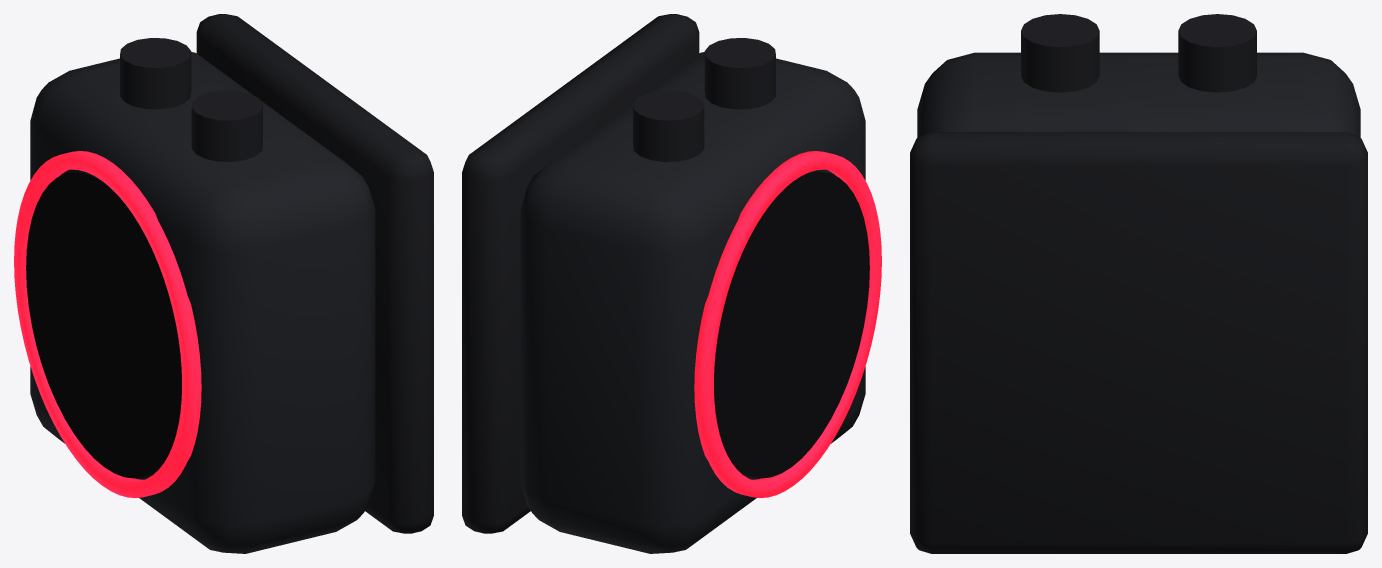
The model's file is aio-pump.glb.
The picture shows the model from 3 angles, left to right: view 1: azimuth 30°, elevation 25°; view 2: azimuth 150°, elevation 25°; view 3: azimuth 270°, elevation 25°; orthographic projection. The views are drawn at different scales.
Parts seen in each view (by area): view 1: pump_body, pump_ring; view 2: pump_body, pump_ring; view 3: pump_body.
Boxes of the visible parts, x1,y1,x2,y2 form: pump_body: (26,14,433,553); pump_ring: (14,151,201,497); pump_body: (462,14,869,553); pump_ring: (694,151,881,497); pump_body: (910,14,1367,553).
Size of the model in its own units: 0.0416 by 0.07 by 0.064.
